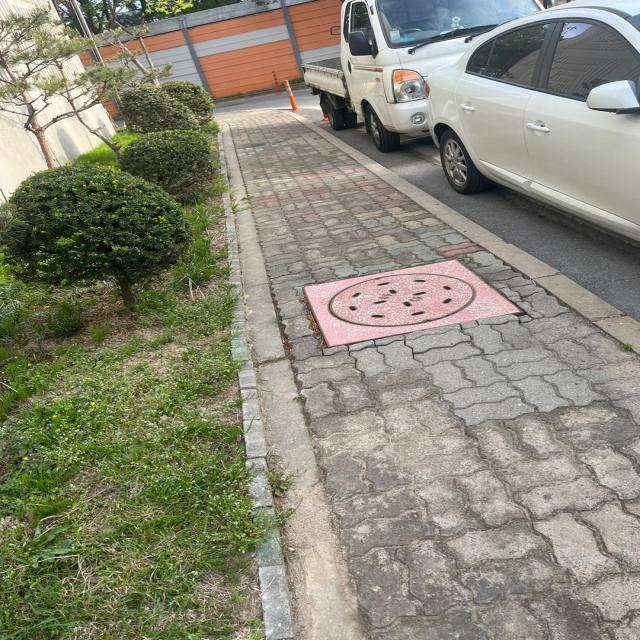Sewer Cover: (282, 258, 518, 352)
